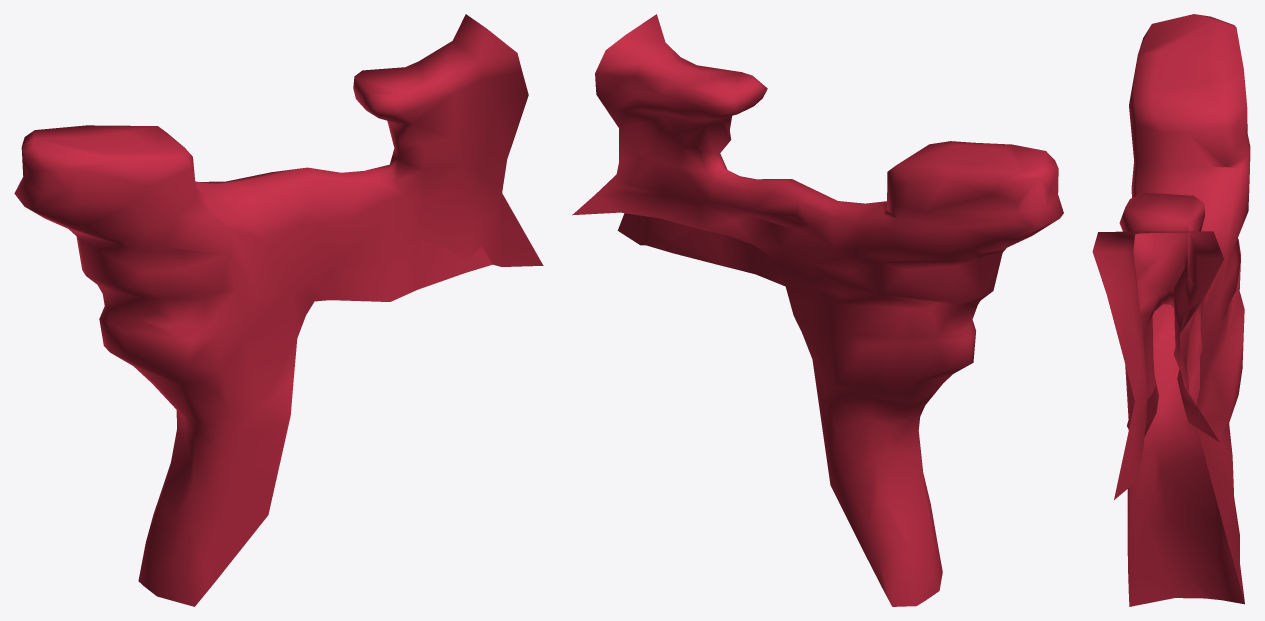
File: platformRock_C_LOW.FBX
3 views of the same model, side by side, from view 1: azimuth 30°, elevation 25°; view 2: azimuth 150°, elevation 25°; view 3: azimuth 270°, elevation 25° (orthographic). The views are drawn at different scales.
Parts seen in each view (by area): view 1: platformRock_03_LOW; view 2: platformRock_03_LOW; view 3: platformRock_03_LOW.
Boxes of the visible parts, x1,y1,x2,y2 form: platformRock_03_LOW: (14,14,543,606); platformRock_03_LOW: (572,14,1063,606); platformRock_03_LOW: (1092,14,1250,606).
Size of the model in its own units: 2951 by 2842 by 748.
